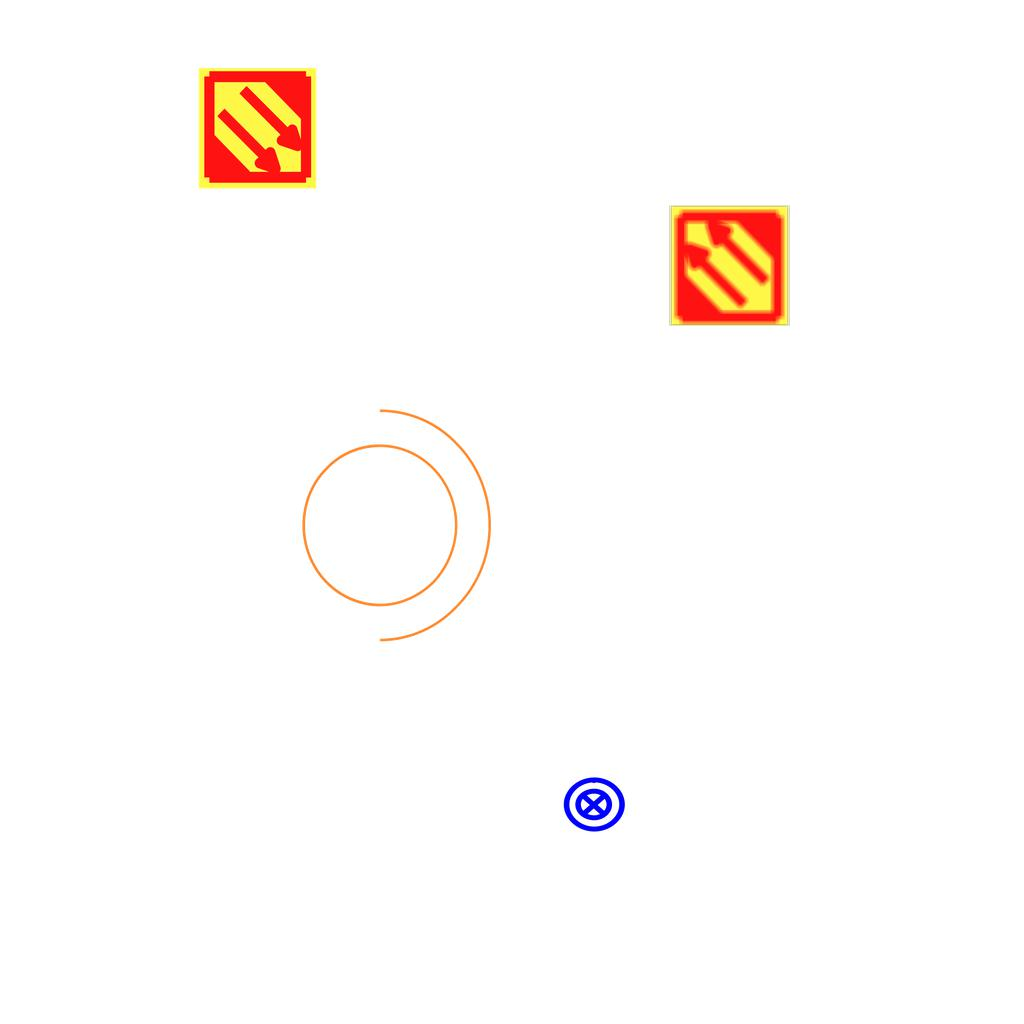ASR_Ansaugrauchmelder: (195, 66, 320, 191), (667, 203, 792, 328)
Scheinwerfer_fuer_Alarmbeleuchtung: (277, 387, 502, 651)
Taster_beleuchtet: (561, 772, 627, 838)
